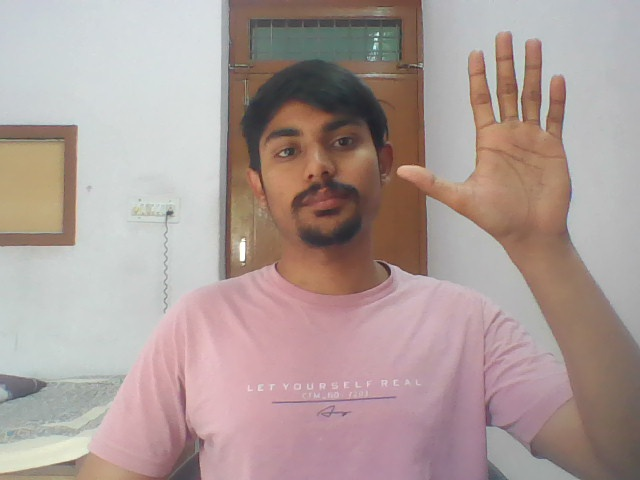Hello: (396, 25, 582, 235)
